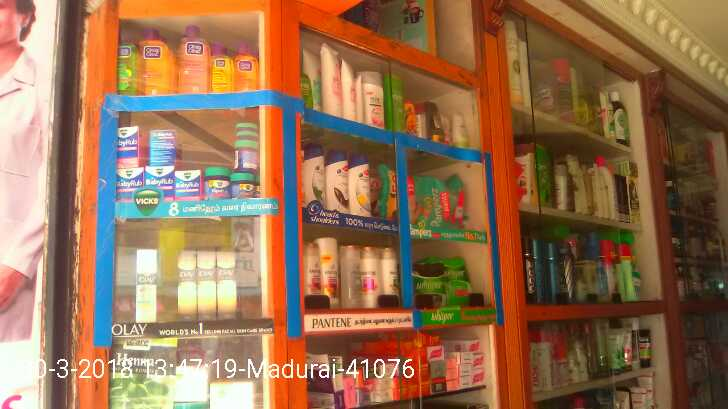vicks: (115, 126, 144, 169), (144, 167, 171, 200), (115, 169, 144, 199), (150, 128, 174, 164), (232, 139, 258, 171), (175, 172, 203, 201), (206, 167, 230, 200), (233, 172, 255, 197), (236, 122, 256, 131), (233, 132, 256, 139)
